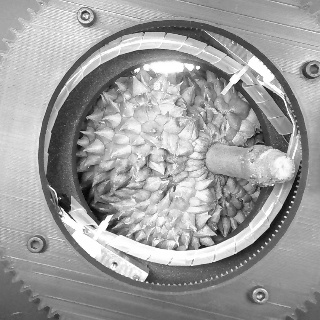base: (202, 140, 234, 181)
end: (273, 155, 295, 181)
